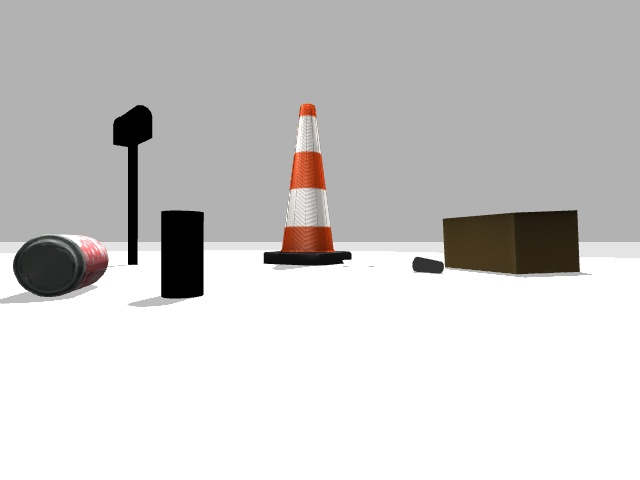boite_lettres: (113, 105, 152, 264)
bouteille_verre: (161, 210, 203, 298)
canette: (13, 235, 108, 296)
carton: (443, 210, 579, 273)
cone_chantier: (264, 104, 351, 265)
gobelet: (412, 257, 444, 273)
